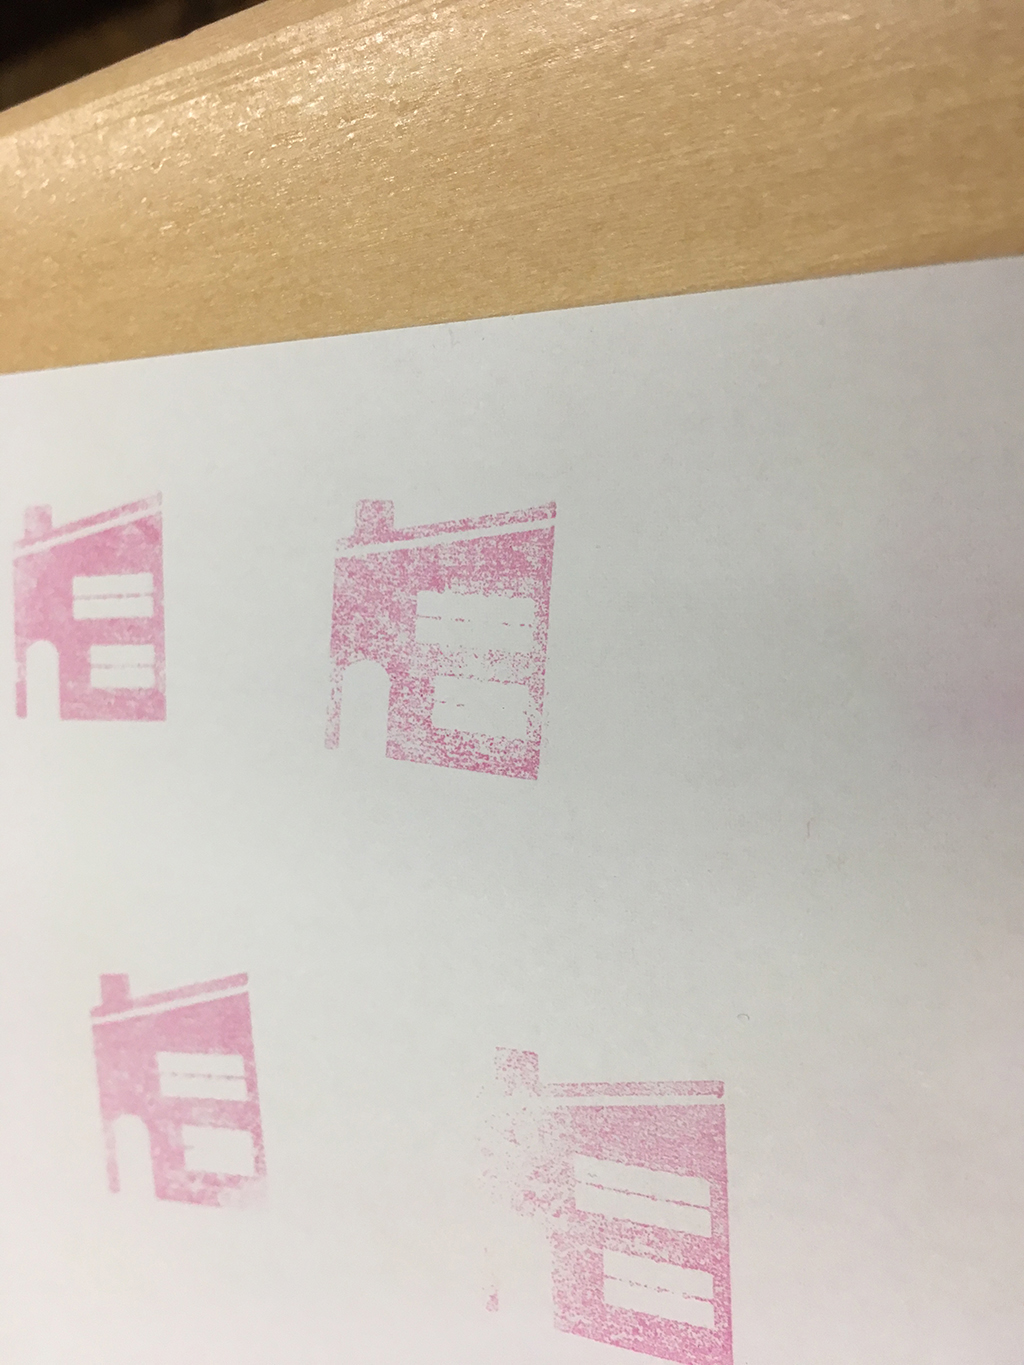house: (418, 1025, 759, 1365), (305, 470, 575, 801), (70, 952, 295, 1217), (2, 463, 177, 738)
